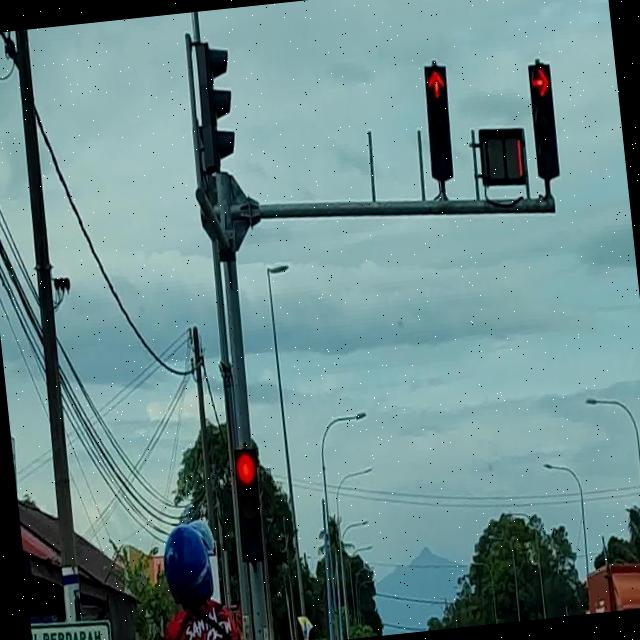red_light: (419, 62, 459, 181), (230, 445, 266, 562), (526, 61, 562, 178)
